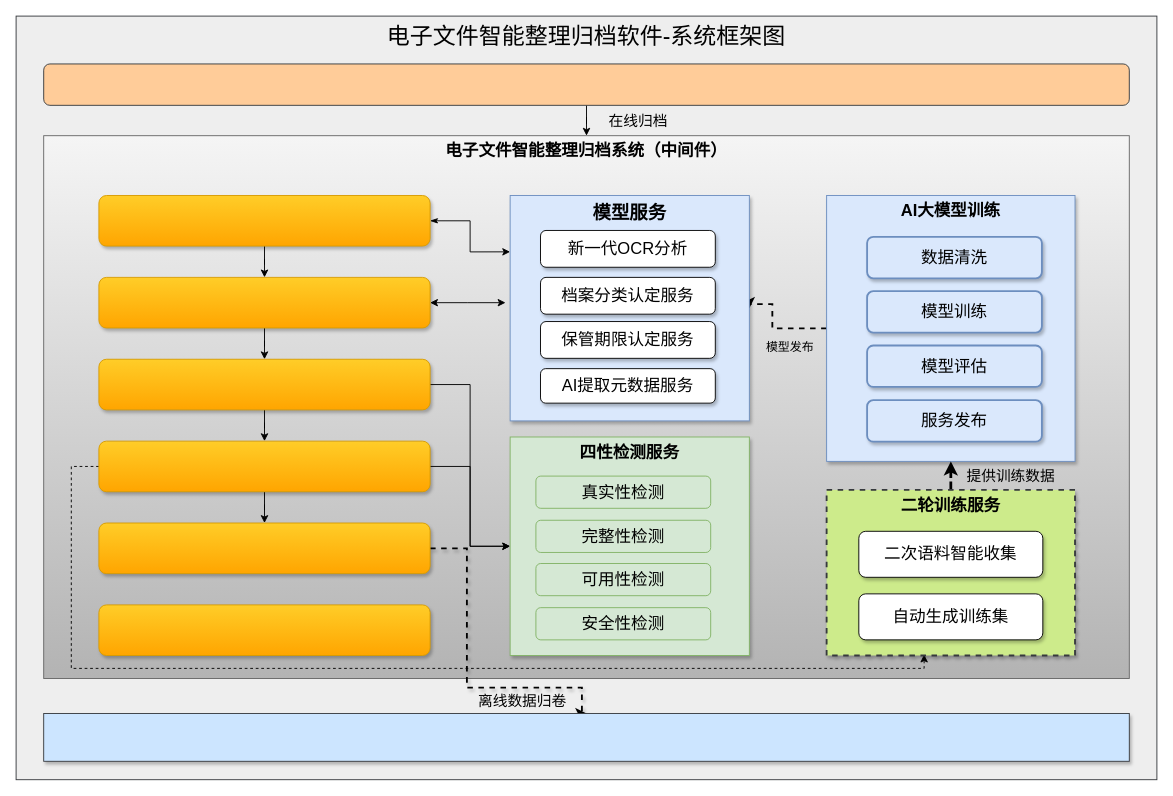
Some shapes in this 1173 by 796 pixel diagram are drawn without their labels. Each missing label, with the centre of its shape:
上游业务系统OA、一网通办、财务...: the point at 586,84
各单位综合档案管理系统: the point at 587,738
归档（离线打包-符合归档要求数据包）: the point at 265,549
数据成果（接收检测、接收登记、确认接收）: the point at 265,467
数据移交（检测、登记、提交）: the point at 265,385
智能接收（捕获、录入、转换）: the point at 265,222
智能整理（组件、编号、封装）: the point at 265,303
系统管理: the point at 265,631
